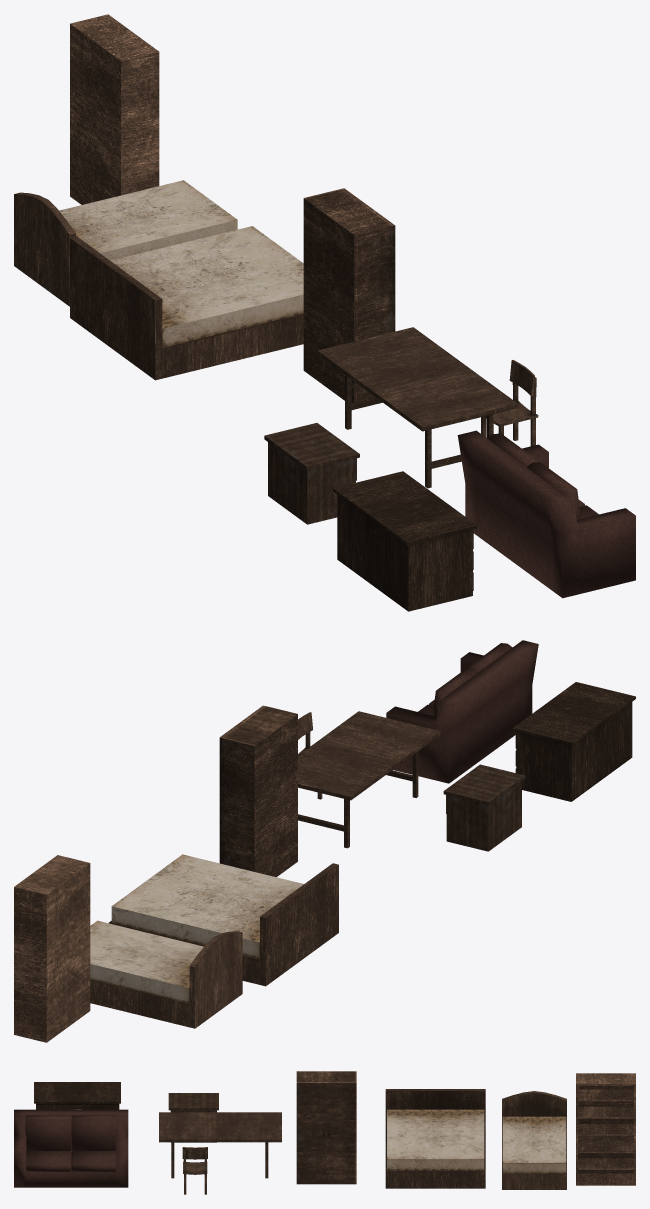
Rendered from Furnitures.fbx.
3 views of the same model, one above another, from view 1: azimuth 30°, elevation 25°; view 2: azimuth 150°, elevation 25°; view 3: azimuth 270°, elevation 25° (orthographic). The views are drawn at different scales.
Parts seen in each view (by area): view 1: Cube.002, Cube, Cube.011, Cube.005, Cabinet, Cube.001, Cube.004, Cube.009, Cube.003; view 2: Cube.002, Cube.011, Cube.001, Cabinet, Cube, Cube.005, Cube.004, Cube.009; view 3: Cube.002, Cube, Cube.011, Cube.001, Cube.004, Door2, Door1, Cube.005, Cube.009, Cube.003, Cabinet, Cube.006.
Part boxes in pixels (bbox=[...]): Cube.002: bbox=[70, 226, 303, 380]; Cube: bbox=[457, 430, 635, 598]; Cube.011: bbox=[70, 14, 159, 204]; Cube.005: bbox=[333, 471, 477, 611]; Cabinet: bbox=[303, 189, 392, 402]; Cube.001: bbox=[14, 180, 237, 306]; Cube.004: bbox=[317, 327, 518, 488]; Cube.009: bbox=[264, 423, 359, 524]; Cube.003: bbox=[481, 360, 538, 446]; Cube.002: bbox=[109, 854, 338, 986]; Cube.011: bbox=[14, 855, 90, 1042]; Cube.001: bbox=[90, 920, 242, 1028]; Cabinet: bbox=[222, 706, 297, 877]; Cube: bbox=[386, 640, 538, 783]; Cube.005: bbox=[512, 682, 635, 801]; Cube.004: bbox=[298, 711, 440, 848]; Cube.009: bbox=[443, 764, 525, 851]; Cube.002: bbox=[385, 1089, 485, 1188]; Cube: bbox=[14, 1109, 128, 1187]; Cube.011: bbox=[576, 1073, 635, 1185]; Cube.001: bbox=[502, 1091, 566, 1189]; Cube.004: bbox=[159, 1112, 281, 1178]; Door2: bbox=[296, 1082, 326, 1184]; Door1: bbox=[326, 1082, 356, 1184]; Cube.005: bbox=[34, 1082, 120, 1109]; Cube.009: bbox=[168, 1093, 218, 1142]; Cube.003: bbox=[182, 1147, 207, 1194]; Cabinet: bbox=[296, 1071, 356, 1082]; Cube.006: bbox=[36, 1105, 118, 1109].
Bounding box in the file's own units: 759 × 502 × 2698.
